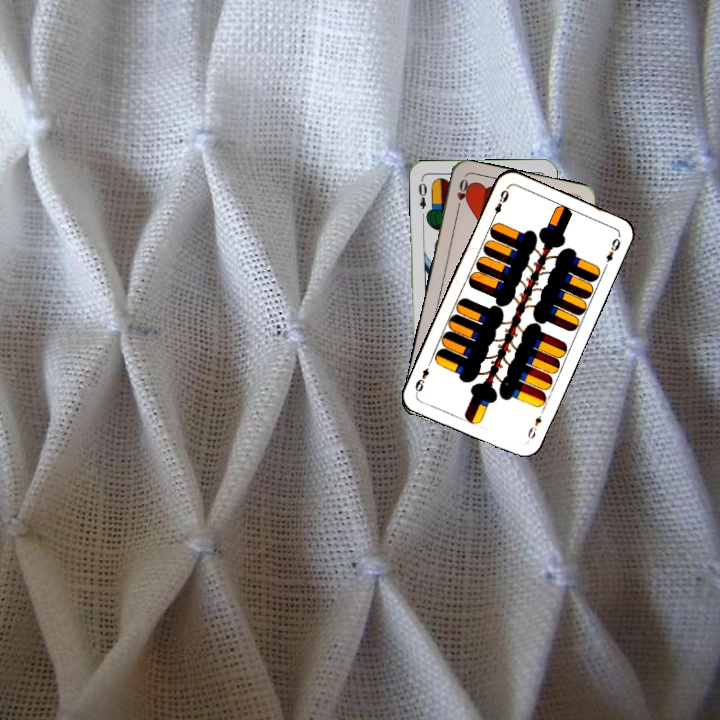E9: (488, 186, 511, 222), (523, 412, 544, 442)
EO: (414, 175, 429, 211)
HO: (453, 174, 472, 214)
